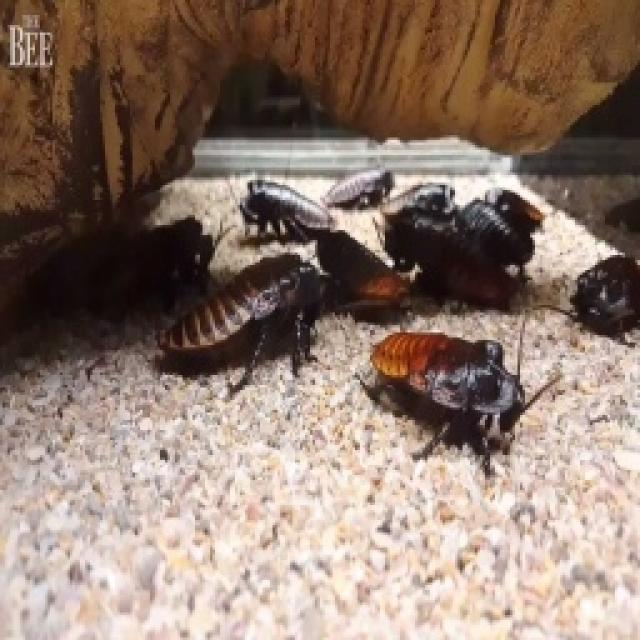cockroach: (356, 324, 566, 478), (153, 239, 340, 400)
